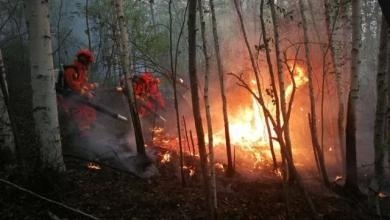fire: (214, 60, 310, 168), (84, 160, 99, 171)
